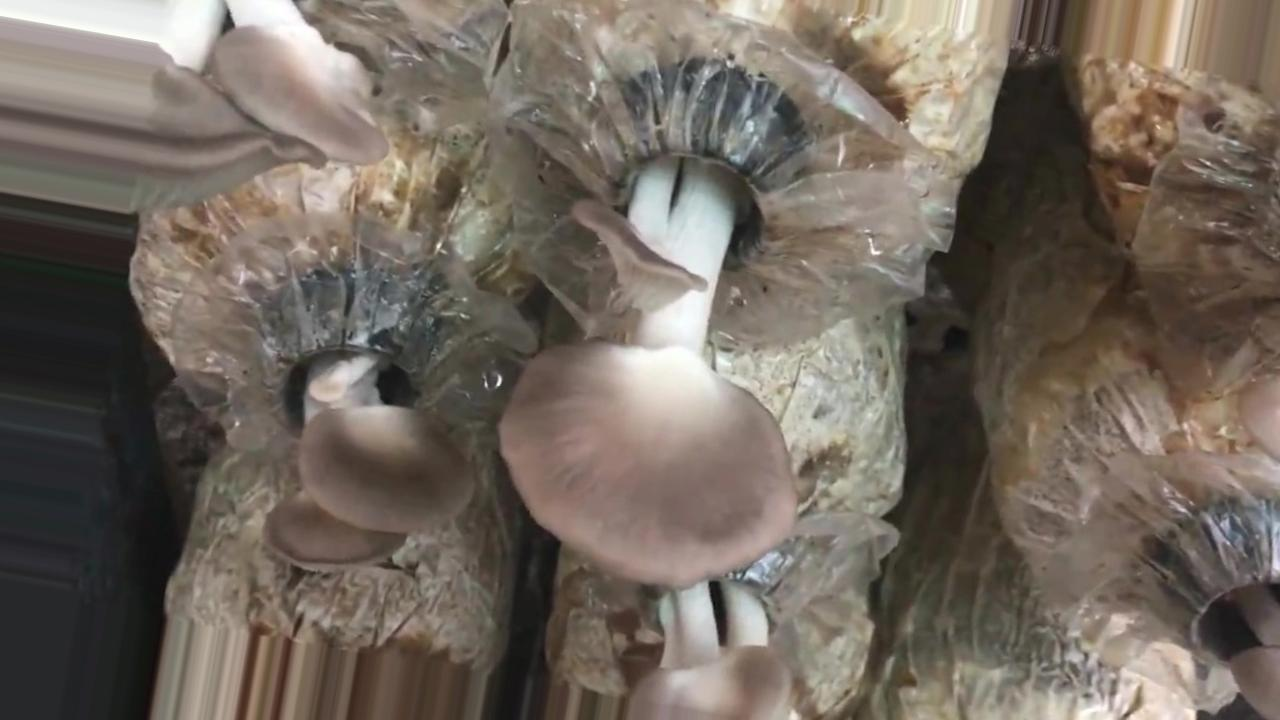nam: (496, 77, 810, 585), (1, 1, 389, 206), (261, 284, 477, 567), (626, 539, 791, 720), (1185, 517, 1279, 720)
